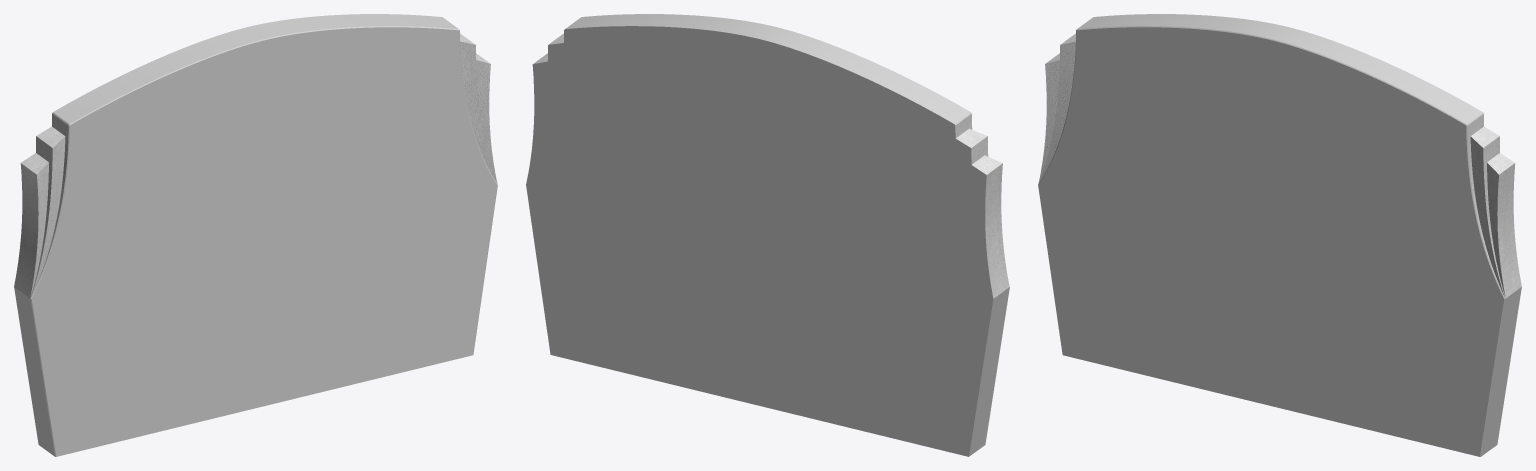
The model's file is cn52d2534ce3_tkf.glb.
The picture shows the model from 3 angles, left to right: view 1: azimuth 30°, elevation 25°; view 2: azimuth 150°, elevation 25°; view 3: azimuth 330°, elevation 25°; orthographic projection.
Visible parts, largest first — view 1: Pam-g-160-2, Pam-g-160-2_2_notexture; view 2: Pam-g-160-2, Pam-g-160-2_2_notexture; view 3: Pam-g-160-2, Pam-g-160-2_2_notexture.
Boxes of the visible parts, x1,y1,x2,y2 form: Pam-g-160-2: (14,14,497,456); Pam-g-160-2_2_notexture: (14,33,497,298); Pam-g-160-2: (526,14,1009,456); Pam-g-160-2_2_notexture: (533,33,1009,298); Pam-g-160-2: (1038,14,1521,456); Pam-g-160-2_2_notexture: (1038,33,1521,298).
Size of the model in its own units: 0.8 by 0.6 by 0.05.
1 material, 1 textured.
